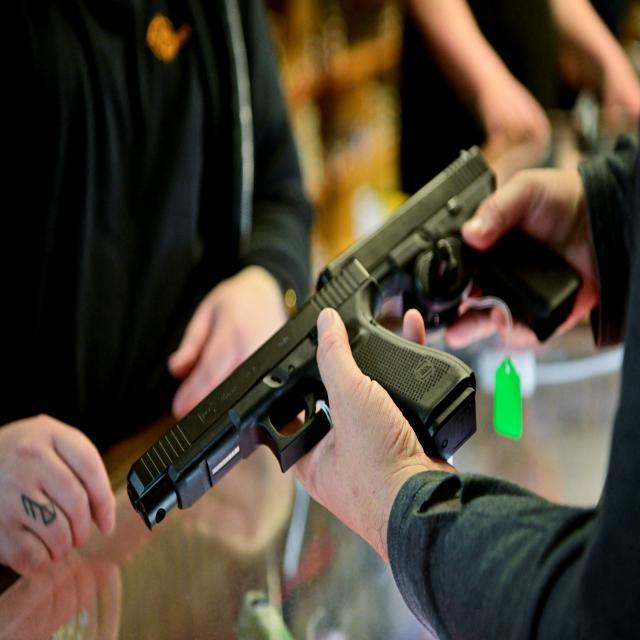pistol: (127, 249, 479, 534), (323, 143, 586, 315)
